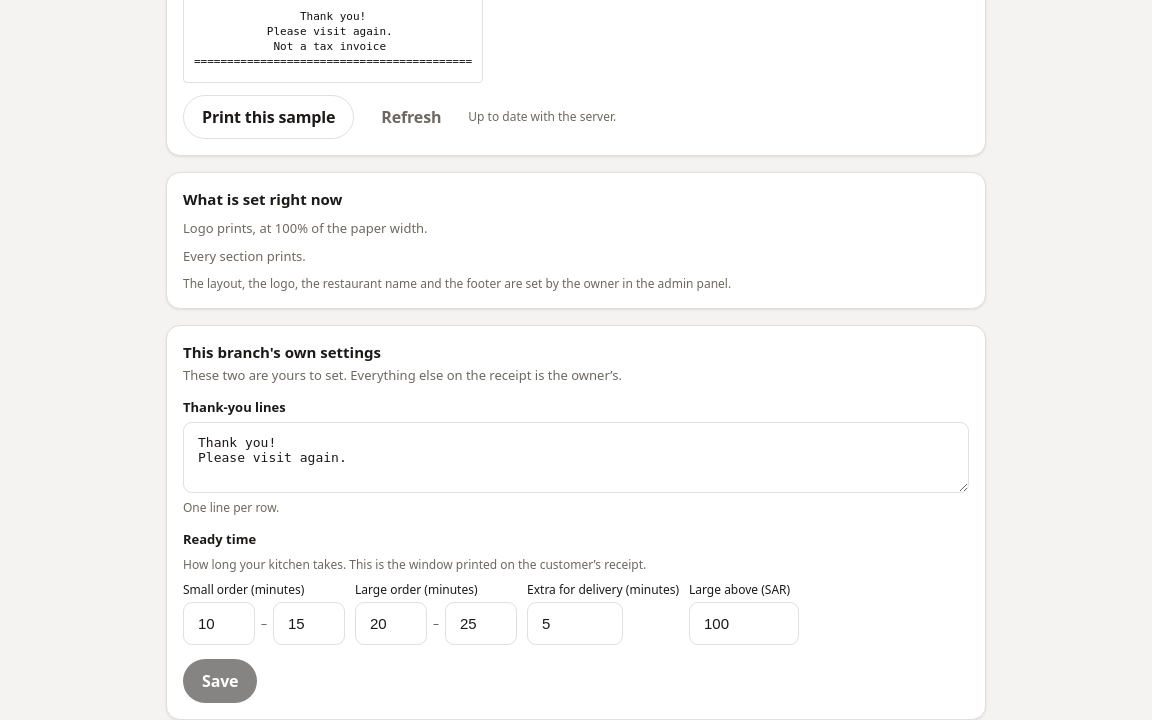
Test: what a branch may change › says a save was refused instead of looking like it worked
(page scrolled)
expect the text "Up to date with the server." is shown: met, box x1=468 y1=108 x2=616 y2=125
Replace the text in the text box labelled "Thank-you lines One line per row." with "Shukran!" at (576, 457), box x1=183 y1=422 x2=969 y2=493
(page scrolled)
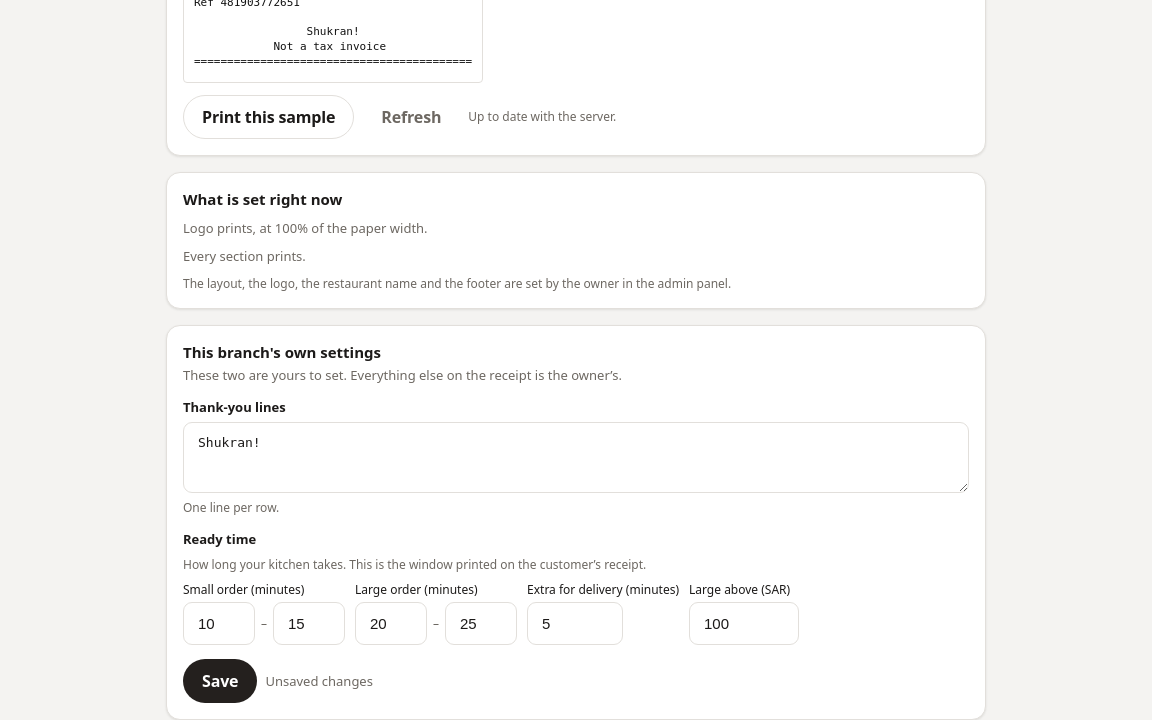
Click the button "Save".
click(220, 681)  # box x1=183 y1=659 x2=257 y2=703
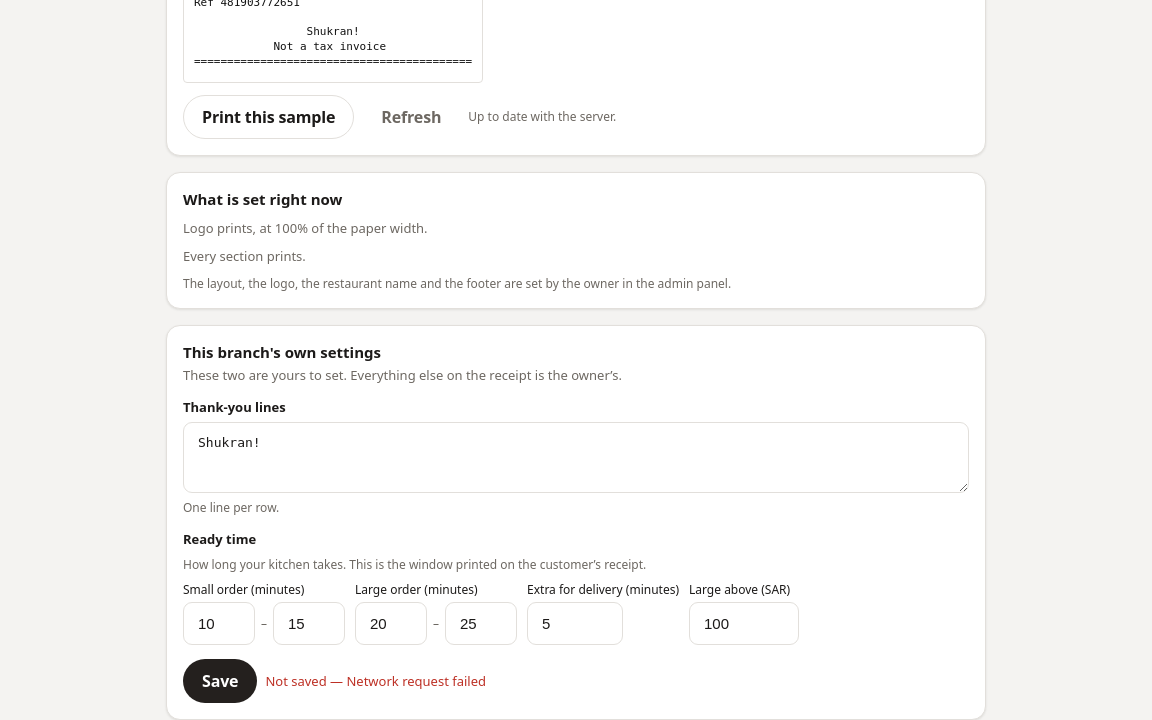
expect the message shows "Not saved": met, box x1=265 y1=672 x2=327 y2=690
expect the message shows "Network request failed": met, box x1=346 y1=672 x2=486 y2=690
